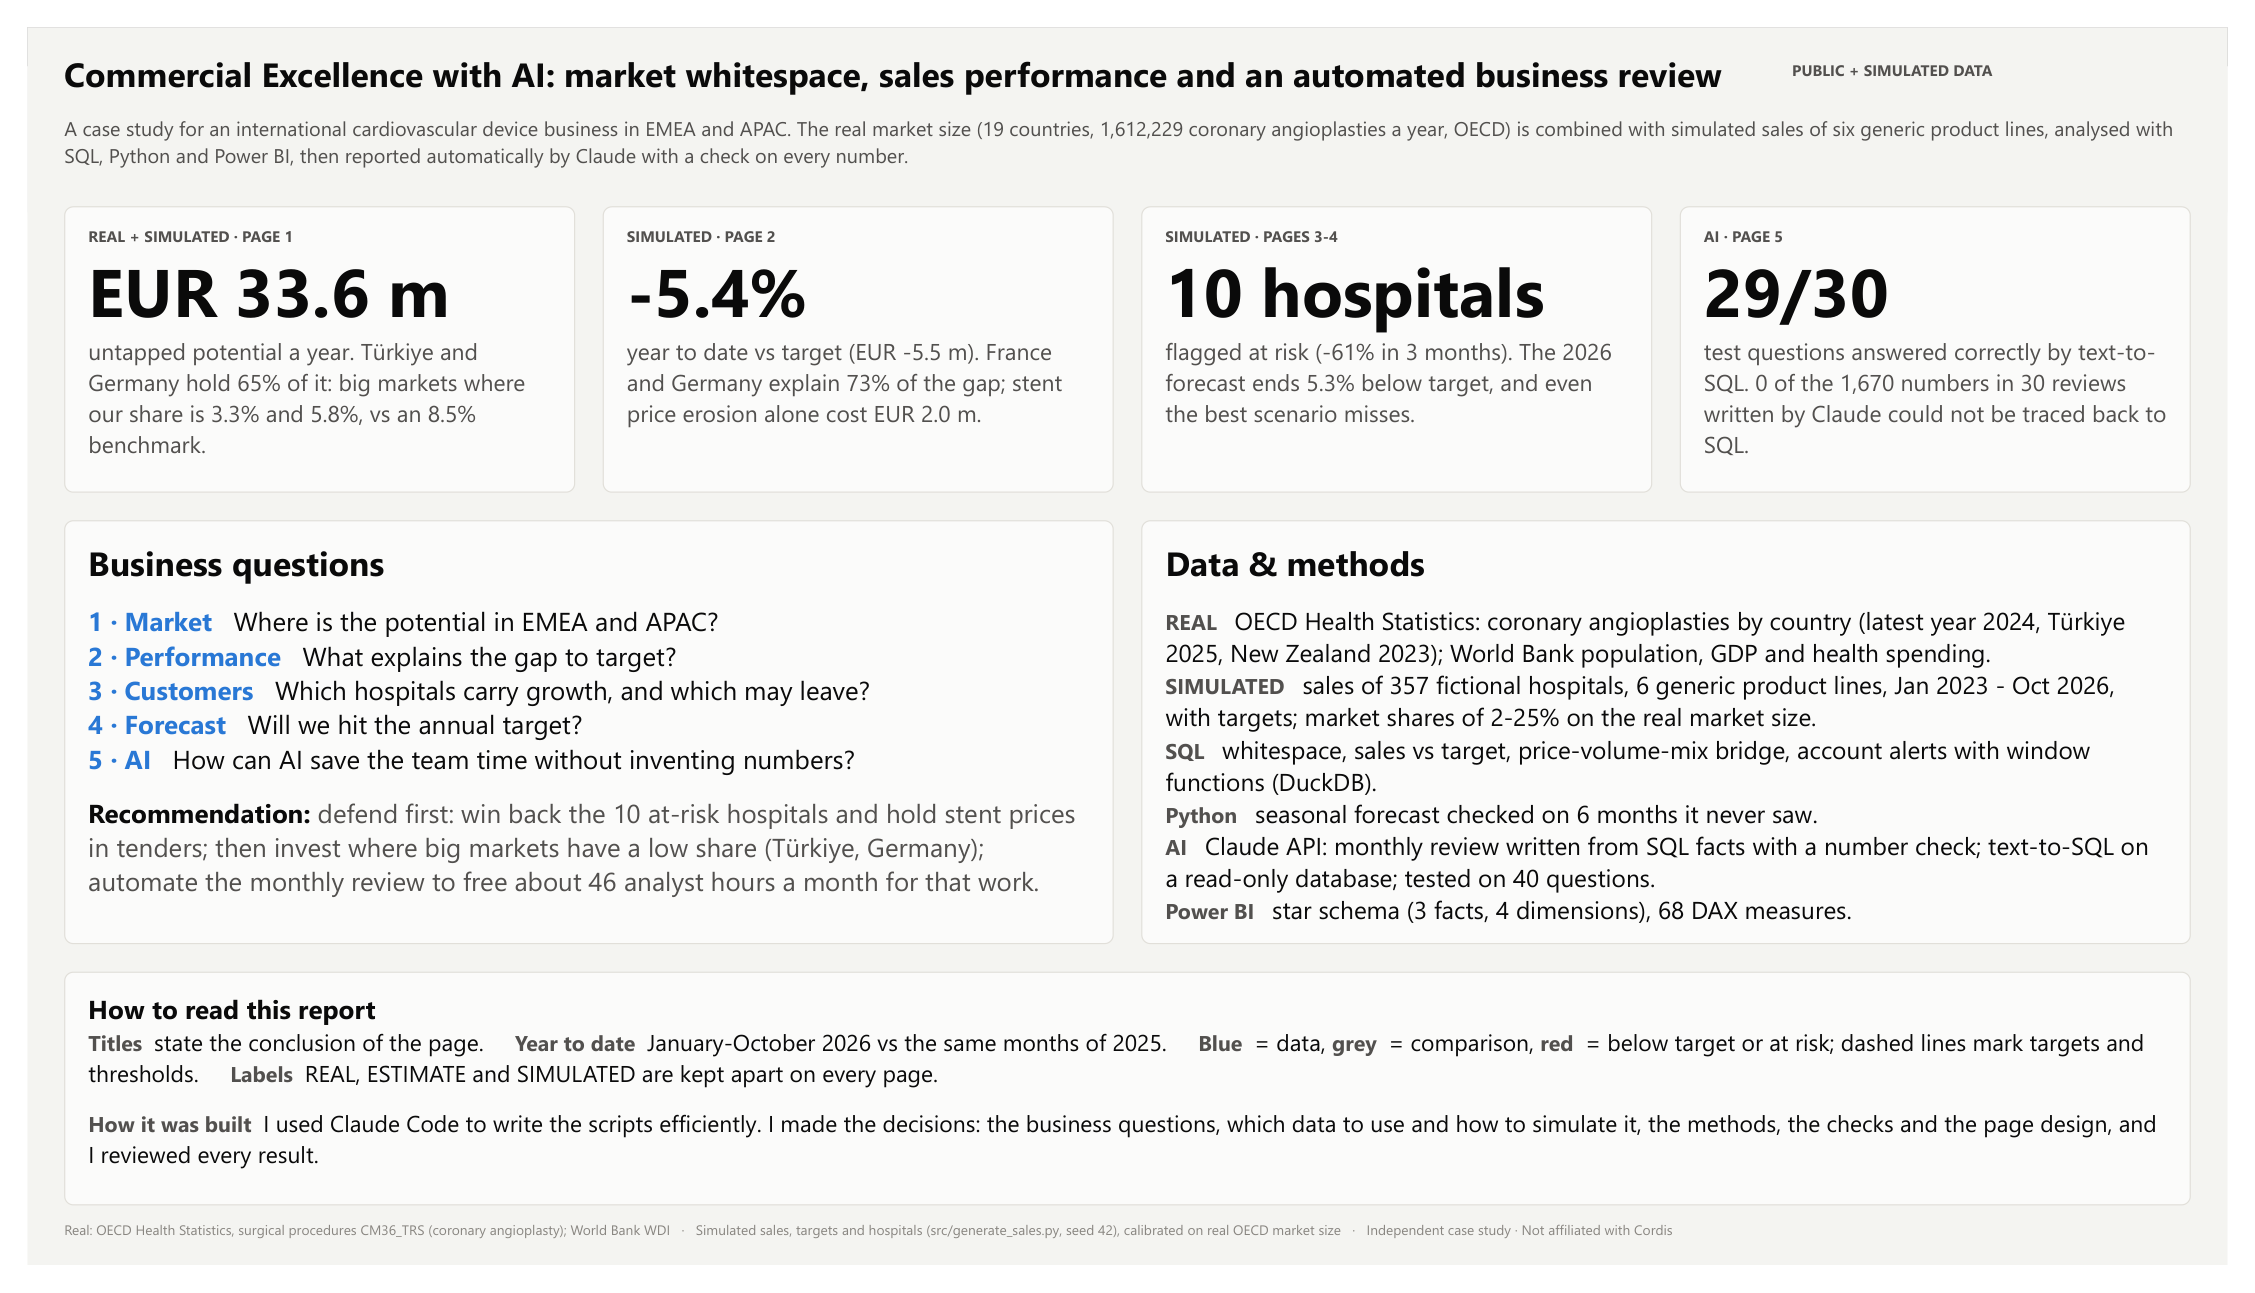

This screenshot's page, from the dashboard's own definition file:
{"tool":"powerbi","page":{"name":"Overview","canvas":[1920,1080],"ordinal":0},"visuals":[{"type":"textbox","box":[32,20,1500,56],"z":1000},{"type":"textbox","box":[1540,28,348,40],"z":2000},{"type":"textbox","box":[32,76,1856,64],"z":3000},{"type":"textbox","box":[32,156,446,250],"z":4000},{"type":"textbox","box":[502,156,446,250],"z":5000},{"type":"textbox","box":[972,156,446,250],"z":6000},{"type":"textbox","box":[1442,156,446,250],"z":7000},{"type":"textbox","box":[32,430,916,370],"z":8000},{"type":"textbox","box":[972,430,916,370],"z":9000},{"type":"textbox","box":[32,824,1856,204],"z":10000},{"type":"textbox","box":[32,1040,1856,32],"z":11000}]}

Visuals, with their boxes in screenshot pixels (x1, y1, x2, y2), scaled from the page's 1920x1080 canvas onto the 2255x1293 screenshot:
textbox: bbox=(38, 24, 1799, 91)
textbox: bbox=(1809, 34, 2217, 81)
textbox: bbox=(38, 91, 2217, 168)
textbox: bbox=(38, 187, 561, 486)
textbox: bbox=(590, 187, 1113, 486)
textbox: bbox=(1142, 187, 1665, 486)
textbox: bbox=(1694, 187, 2217, 486)
textbox: bbox=(38, 515, 1113, 958)
textbox: bbox=(1142, 515, 2217, 958)
textbox: bbox=(38, 987, 2217, 1231)
textbox: bbox=(38, 1245, 2217, 1283)
